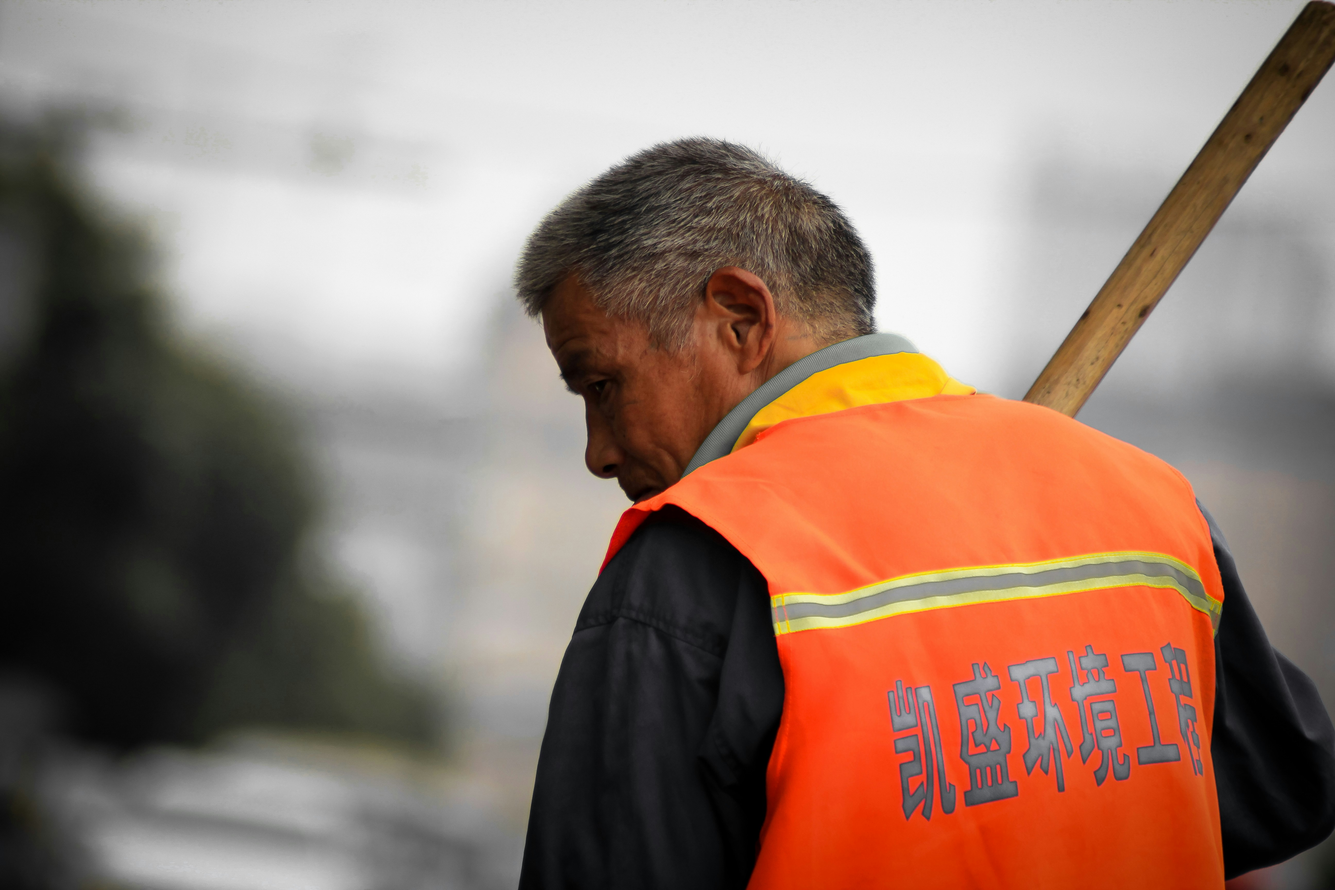No_Helmet: (494, 132, 879, 526)
